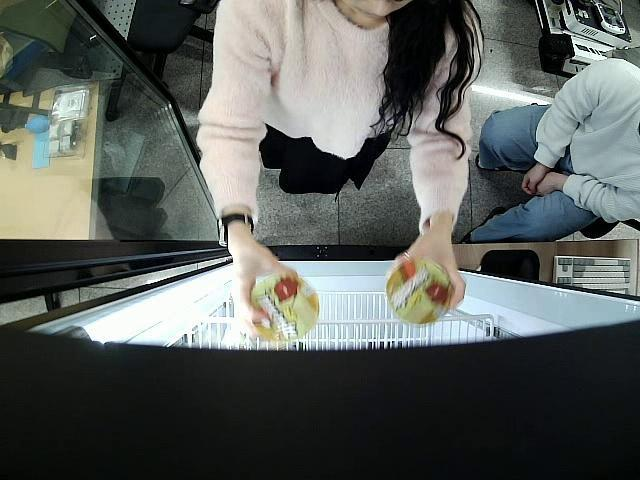04_chapagetti_S: (247, 273, 321, 342), (385, 261, 452, 326)
